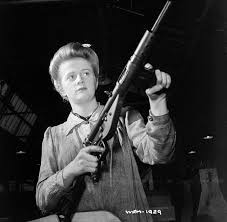gun: (56, 2, 171, 217)
